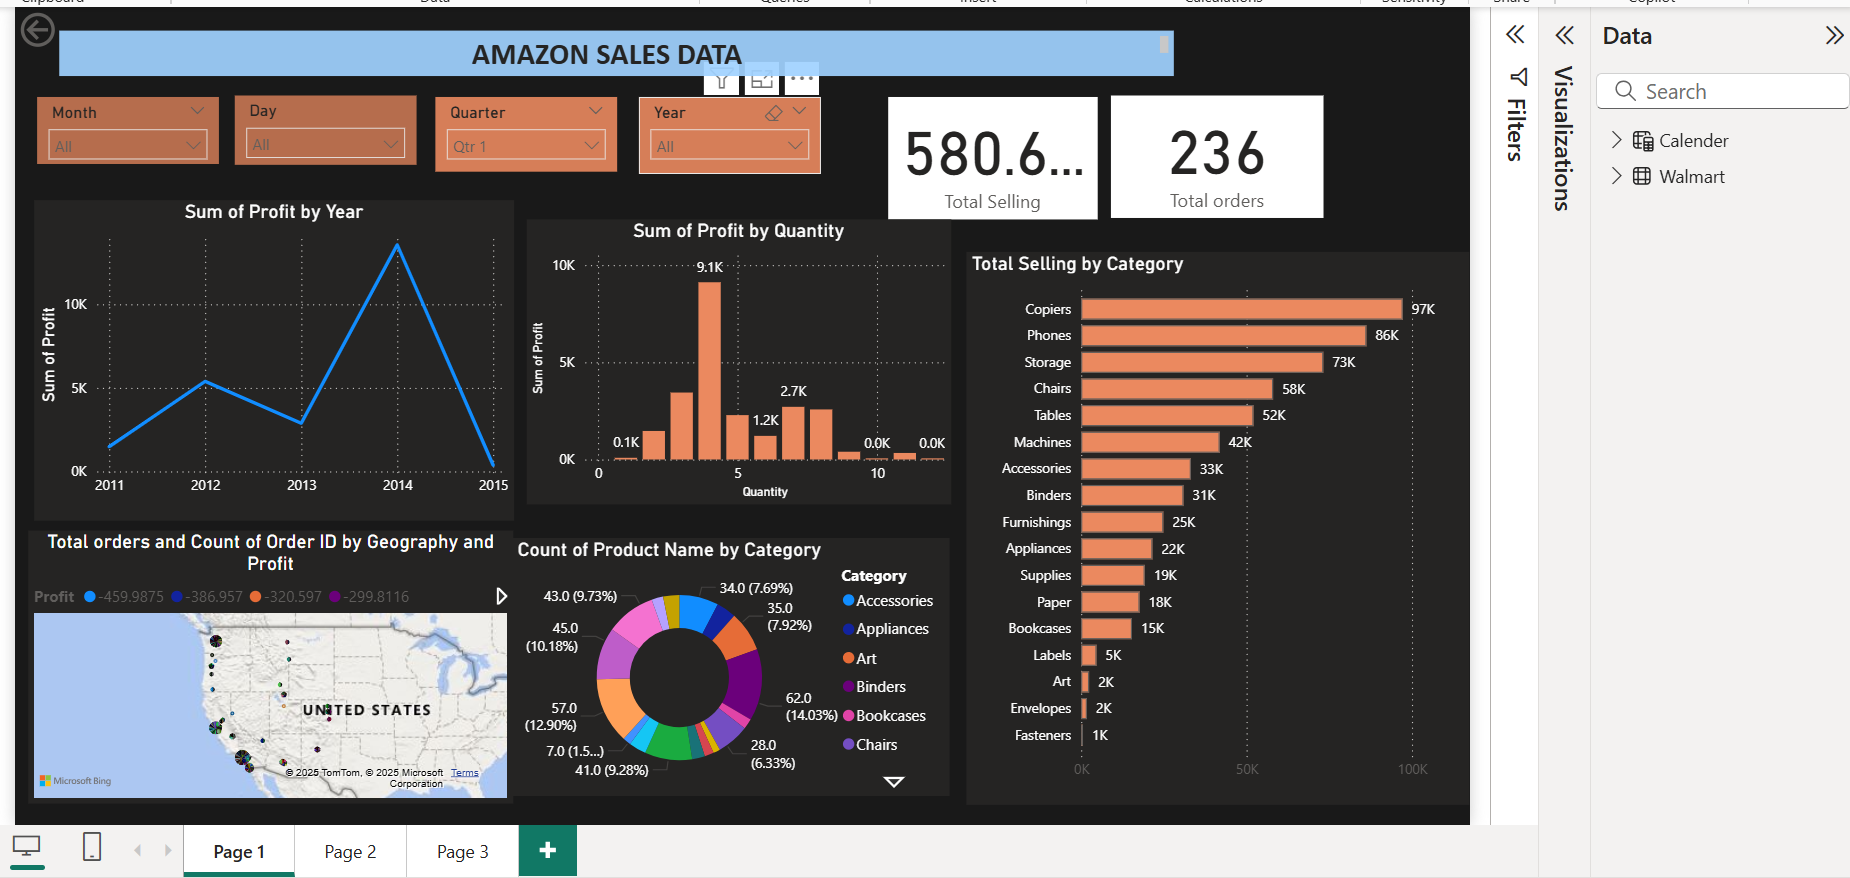

The dashboard page shown, as its layout file describes it:
{"tool":"powerbi","page":{"name":"Page 1","canvas":[1280,720],"ordinal":0},"visuals":[{"type":"actionButton","box":[0,0,100,40],"z":0},{"type":"slicer","fields":{"Values":["Walmart.Ship Date.Variation.Date Hierarchy.Month"]},"box":[20,78.9,160,58.9],"z":1000},{"type":"slicer","fields":{"Values":["Walmart.Ship Date.Variation.Date Hierarchy.Day"]},"box":[193.3,77.8,160,61.1],"z":2000},{"type":"slicer","fields":{"Values":["Walmart.Ship Date.Variation.Date Hierarchy.Quarter"]},"box":[370,78.9,160,65.6],"z":3000},{"type":"slicer","fields":{"Values":["Walmart.Ship Date.Variation.Date Hierarchy.Year"]},"box":[548.9,78.9,160,67.8],"z":4000},{"type":"card","fields":{"Values":["Calender.Total Selling"]},"box":[768.6,79.7,184.4,107.7],"z":5000},{"type":"card","fields":{"Values":["Calender.Total orders"]},"box":[964.8,78.2,187.3,107.7],"z":6000},{"type":"lineChart","fields":{"Category":["Walmart.Ship Date.Variation.Date Hierarchy.Year"],"Y":["Sum(Walmart.Profit)"]},"box":[16.7,170,422.2,282.2],"z":7000},{"type":"clusteredBarChart","fields":{"Category":["Walmart.Category"],"Y":["Calender.Total Selling"]},"box":[837.9,215.4,442.6,486.8],"z":8000},{"type":"map","fields":{"Category":["Walmart.Geography"],"Series":["Walmart.Profit"],"X":["Calender.Total orders"],"Size":["CountNonNull(Walmart.Order ID)"]},"box":[12.2,461.1,426.7,240],"z":9000},{"type":"donutChart","fields":{"Series":["Walmart.Category"],"Y":["CountNonNull(Walmart.Product Name)"]},"box":[438.1,467.6,385,227.2],"z":10000},{"type":"clusteredColumnChart","fields":{"Category":["Walmart.Quantity"],"Y":["Sum(Walmart.Profit)"]},"box":[449.9,187.3,373.2,250.8],"z":11000},{"type":"textbox","box":[38.4,20.7,981,39.8],"z":12000}]}

Visuals, with their boxes on the page's 1280x720 design canvas (x1, y1, x2, y2). These are canvas units, not pixel positions in the 1850x878 screenshot, which may show the page scaled, cropped or inside an application window:
actionButton: bbox=[0, 0, 100, 40]
slicer - Walmart.Ship Date.Variation.Date Hierarchy.Month: bbox=[20, 79, 180, 138]
slicer - Walmart.Ship Date.Variation.Date Hierarchy.Day: bbox=[193, 78, 353, 139]
slicer - Walmart.Ship Date.Variation.Date Hierarchy.Quarter: bbox=[370, 79, 530, 144]
slicer - Walmart.Ship Date.Variation.Date Hierarchy.Year: bbox=[549, 79, 709, 147]
card - Calender.Total Selling: bbox=[769, 80, 953, 187]
card - Calender.Total orders: bbox=[965, 78, 1152, 186]
lineChart - Walmart.Ship Date.Variation.Date Hierarchy.Year x Sum(Walmart.Profit): bbox=[17, 170, 439, 452]
clusteredBarChart - Walmart.Category x Calender.Total Selling: bbox=[838, 215, 1280, 702]
map - Walmart.Geography x Walmart.Profit: bbox=[12, 461, 439, 701]
donutChart - Walmart.Category x CountNonNull(Walmart.Product Name): bbox=[438, 468, 823, 695]
clusteredColumnChart - Walmart.Quantity x Sum(Walmart.Profit): bbox=[450, 187, 823, 438]
textbox: bbox=[38, 21, 1019, 60]
